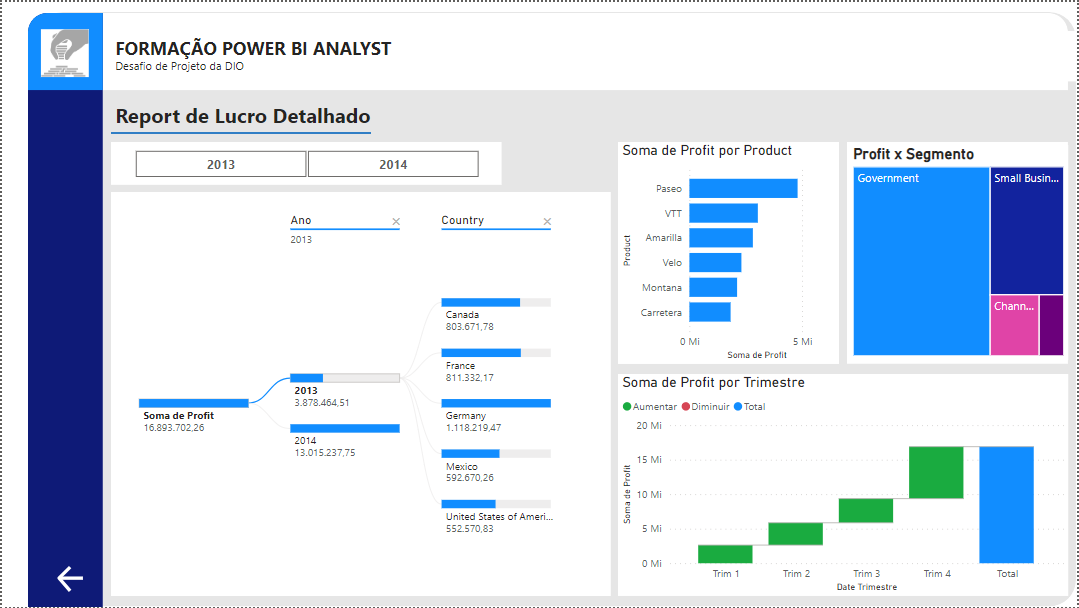

What the dashboard file says about the page in this screenshot:
{"tool":"powerbi","page":{"name":"Página 2","canvas":[1280,720],"ordinal":1},"visuals":[{"type":"shape","box":[42.2,11.8,1238.2,707.8],"z":0},{"type":"shape","box":[131,145.2,309.5,21.4],"z":0,"group":"g1"},{"type":"textbox","box":[131,113.1,619,42.9],"z":1000,"group":"g1"},{"type":"shape","box":[1007.1,166.7,263.1,264.3],"z":1000},{"type":"shape","box":[131,166.7,465.5,51.2],"z":2000},{"type":"shape","box":[32.1,12.6,89.4,707.5],"z":3000},{"type":"treemap","title":"Profit x Segmento","fields":{"Values":["Sum(financials.Profit)"],"Group":["financials.Segment"]},"box":[1009.1,170,260.7,256],"z":3000,"group":"g2"},{"type":"shape","box":[32.1,12.6,89.4,92.3],"z":4000},{"type":"image","box":[35,27.2,82.6,67.1],"z":5000},{"type":"shape","box":[121.5,12.6,1148.8,92.3],"z":6000},{"type":"textbox","box":[131.2,34,1148.8,60.3],"z":7000},{"type":"shape","box":[734.5,442.9,535.7,264.3],"z":8000},{"type":"shape","box":[131,226.2,595.2,481],"z":9000},{"type":"group","id":"g1","title":"Title Report","box":[131,113.1,619,53.6],"z":10000},{"type":"actionButton","box":[63.1,666.7,41.7,40.5],"z":11000},{"type":"slicer","fields":{"Values":["financials.Date.Variation.Hierarquia de datas.Ano"]},"box":[134.5,170.2,458.3,45.2],"z":12000},{"type":"group","id":"g2","title":"Sales x País","box":[1009.1,170,260.7,256],"z":13000},{"type":"decompositionTreeVisual","fields":{"Analyze":["Sum(financials.Profit)"],"ExplainBy":["financials.Date.Variation.Hierarquia de datas.Ano","financials.Country"]},"box":[134.5,234.5,583.3,464.3],"z":14000},{"type":"shape","box":[734.5,166.7,263.1,264.3],"z":15000},{"type":"waterfallChart","fields":{"Y":["Sum(financials.Profit)"],"Category":["financials.Date.Variation.Hierarquia de datas.Trimestre"]},"box":[734.5,442.9,535.7,264.3],"z":16000},{"type":"clusteredBarChart","fields":{"Y":["Sum(financials.Profit)"],"Category":["financials.Product"]},"box":[734.5,166.7,263.1,264.3],"z":17000}]}

Visuals, with their boxes on the page's 1280x720 design canvas (x1, y1, x2, y2). These are canvas units, not pixel positions in the 1079x608 screenshot, which may show the page scaled, cropped or inside an application window:
shape: {"x1": 42, "y1": 12, "x2": 1280, "y2": 720}
shape: {"x1": 131, "y1": 145, "x2": 440, "y2": 167}
textbox: {"x1": 131, "y1": 113, "x2": 750, "y2": 156}
shape: {"x1": 1007, "y1": 167, "x2": 1270, "y2": 431}
shape: {"x1": 131, "y1": 167, "x2": 596, "y2": 218}
shape: {"x1": 32, "y1": 13, "x2": 122, "y2": 720}
"Profit x Segmento" treemap: {"x1": 1009, "y1": 170, "x2": 1270, "y2": 426}
shape: {"x1": 32, "y1": 13, "x2": 122, "y2": 105}
image: {"x1": 35, "y1": 27, "x2": 118, "y2": 94}
shape: {"x1": 122, "y1": 13, "x2": 1270, "y2": 105}
textbox: {"x1": 131, "y1": 34, "x2": 1280, "y2": 94}
shape: {"x1": 734, "y1": 443, "x2": 1270, "y2": 707}
shape: {"x1": 131, "y1": 226, "x2": 726, "y2": 707}
"Title Report" group: {"x1": 131, "y1": 113, "x2": 750, "y2": 167}
actionButton: {"x1": 63, "y1": 667, "x2": 105, "y2": 707}
slicer - financials.Date.Variation.Hierarquia de datas.Ano: {"x1": 134, "y1": 170, "x2": 593, "y2": 215}
"Sales x País" group: {"x1": 1009, "y1": 170, "x2": 1270, "y2": 426}
decompositionTreeVisual - Sum(financials.Profit) x financials.Date.Variation.Hierarquia de datas.Ano: {"x1": 134, "y1": 234, "x2": 718, "y2": 699}
shape: {"x1": 734, "y1": 167, "x2": 998, "y2": 431}
waterfallChart - Sum(financials.Profit) x financials.Date.Variation.Hierarquia de datas.Trimestre: {"x1": 734, "y1": 443, "x2": 1270, "y2": 707}
clusteredBarChart - Sum(financials.Profit) x financials.Product: {"x1": 734, "y1": 167, "x2": 998, "y2": 431}
